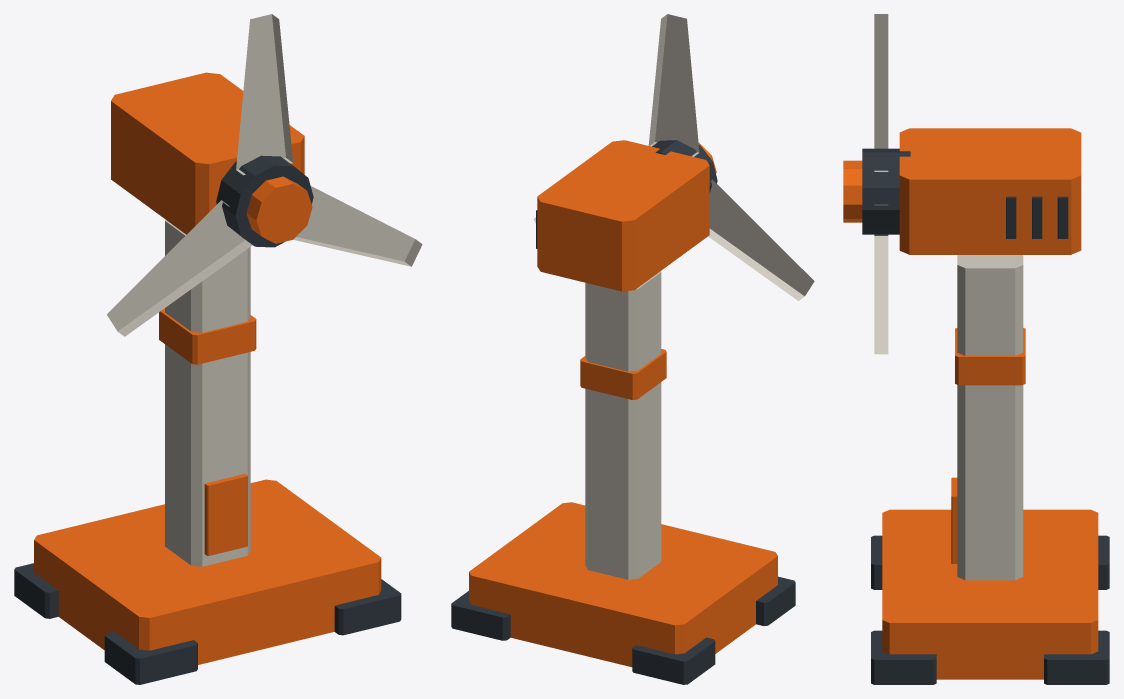
The model's file is wind-turbine-animated.glb.
3 views of the same model, side by side, from view 1: azimuth 30°, elevation 25°; view 2: azimuth 150°, elevation 25°; view 3: azimuth 270°, elevation 25° (orthographic). The views are drawn at different scales.
Visible parts, largest first — view 1: base, tower, blade (×3), nacelle, foot (×3), hub, hub_cap, access_hatch, tower_band; view 2: base, tower, nacelle, blade (×2), foot (×3), tower_band, hub; view 3: base, nacelle, tower, foot (×4), blade (×2), hub, tower_band, vent (×3), hub_cap, access_hatch.
Part boxes in pixels (x1,y1,x2,y2): base: [34, 479, 381, 664]; tower: [165, 220, 250, 566]; blade (×3): [107, 14, 422, 336]; nacelle: [111, 72, 304, 234]; foot (×3): [14, 563, 401, 684]; hub: [216, 155, 313, 247]; hub_cap: [246, 176, 312, 243]; access_hatch: [204, 474, 247, 555]; tower_band: [159, 308, 256, 364]; base: [469, 502, 777, 667]; tower: [585, 271, 661, 579]; nacelle: [537, 140, 709, 291]; blade (×2): [648, 14, 814, 300]; foot (×3): [451, 576, 795, 684]; tower_band: [580, 349, 666, 399]; hub: [652, 140, 717, 192]; base: [882, 509, 1098, 679]; nacelle: [899, 128, 1081, 254]; tower: [957, 255, 1023, 580]; foot (×4): [871, 535, 1109, 684]; blade (×2): [874, 14, 888, 354]; hub: [862, 148, 910, 234]; tower_band: [955, 328, 1025, 385]; vent (×3): [1006, 196, 1068, 238]; hub_cap: [843, 160, 862, 222]; access_hatch: [951, 477, 957, 563].
Bounding box in the file's own units: 1.98 × 3.85 × 1.54.
